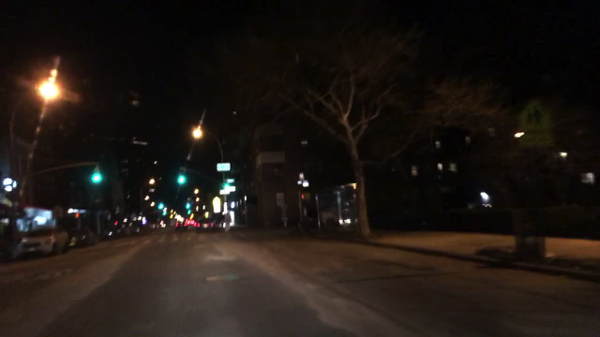car: (19, 230, 68, 255), (66, 231, 98, 247), (196, 219, 216, 234)
traffic light: (93, 169, 103, 187), (179, 176, 187, 186)
traffic sign: (131, 140, 149, 148), (216, 163, 231, 172)
